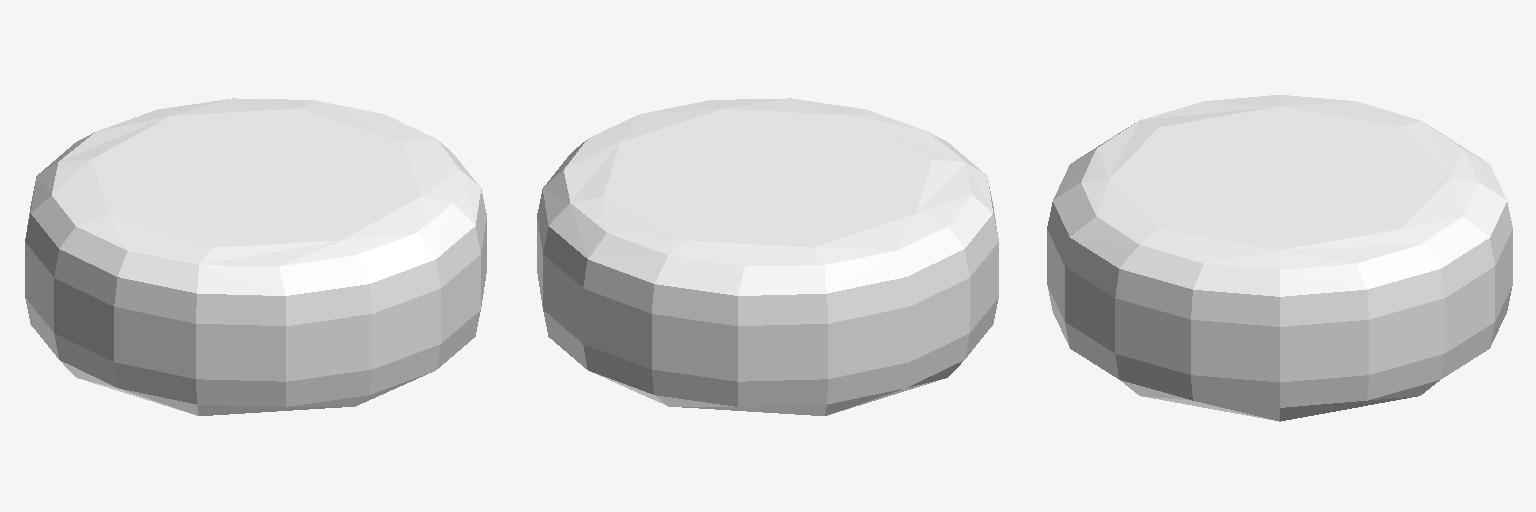
Rendered from white4.obj.
The picture shows the model from 3 angles: view 1: azimuth 30°, elevation 25°; view 2: azimuth 150°, elevation 25°; view 3: azimuth 270°, elevation 25°; orthographic projection.
Visible parts, largest first — view 1: white4; view 2: white4; view 3: white4.
Part boxes in pixels (x1,y1,x2,y2): white4: (25, 98, 486, 415); white4: (537, 98, 998, 415); white4: (1047, 95, 1512, 421).
Bounding box in the file's own units: 9.74 × 3.59 × 9.74.